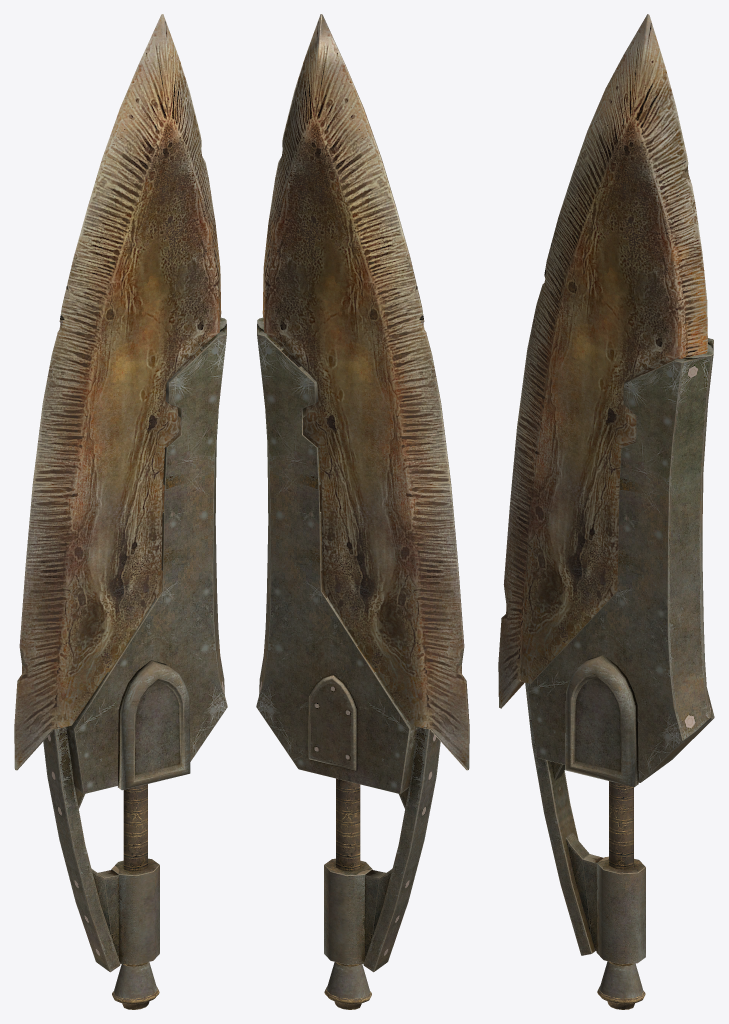
Rendered from bs_two005.obj.
3 views of the same model, side by side, from view 1: azimuth 30°, elevation 25°; view 2: azimuth 150°, elevation 25°; view 3: azimuth 330°, elevation 25° (orthographic).
Visible parts, largest first — view 1: bs_two005_002_LOD_1, bs_two005_000_LOD_1, bs_two005_001_LOD_1; view 2: bs_two005_002_LOD_1, bs_two005_000_LOD_1, bs_two005_001_LOD_1; view 3: bs_two005_002_LOD_1, bs_two005_000_LOD_1, bs_two005_001_LOD_1.
Part boxes in pixels (x1,y1,x2,y2): bs_two005_002_LOD_1: (14,14,221,770); bs_two005_000_LOD_1: (43,317,227,1009); bs_two005_001_LOD_1: (111,858,159,998); bs_two005_002_LOD_1: (262,14,469,770); bs_two005_000_LOD_1: (256,317,440,1009); bs_two005_001_LOD_1: (324,858,372,998); bs_two005_002_LOD_1: (498,14,707,708); bs_two005_000_LOD_1: (525,338,714,1009); bs_two005_001_LOD_1: (596,856,645,998).
Size of the model in its own units: 54.03 by 240 by 18.36.
